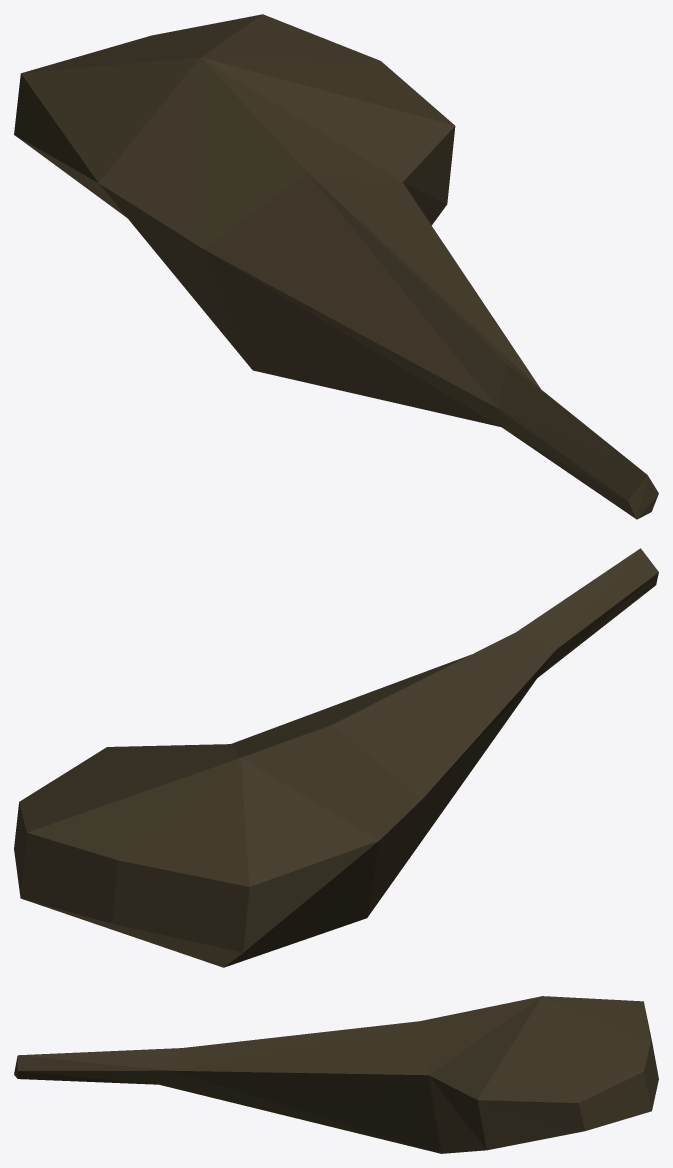
Rendered from ITFO_MUTTON_01.OBJ.
The picture shows the model from 3 angles, top to bottom: view 1: azimuth 30°, elevation 25°; view 2: azimuth 150°, elevation 25°; view 3: azimuth 270°, elevation 25°; orthographic projection. The views are drawn at different scales.
Parts seen in each view (by area): view 1: ITFO_MUTTON_01; view 2: ITFO_MUTTON_01; view 3: ITFO_MUTTON_01.
Boxes of the visible parts, <box> form: ITFO_MUTTON_01: <box>14,14,658,519</box>; ITFO_MUTTON_01: <box>14,548,658,967</box>; ITFO_MUTTON_01: <box>14,996,658,1153</box>.
Size of the model in its own units: 0.2704 by 0.1789 by 0.7532.
